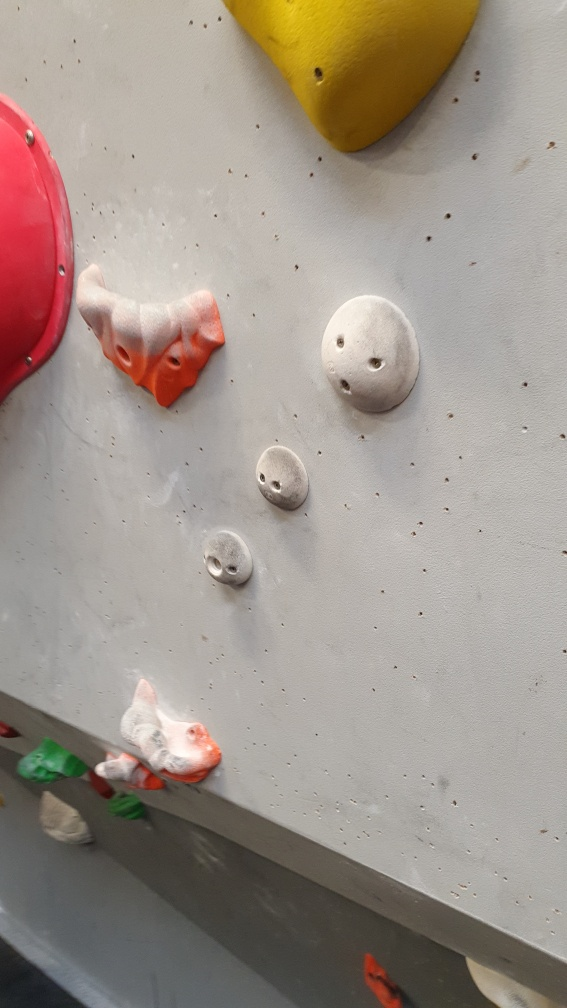Jug: (73, 259, 229, 411), (113, 677, 228, 788)
Sloper: (320, 293, 422, 417), (252, 443, 312, 520), (200, 524, 257, 589)
